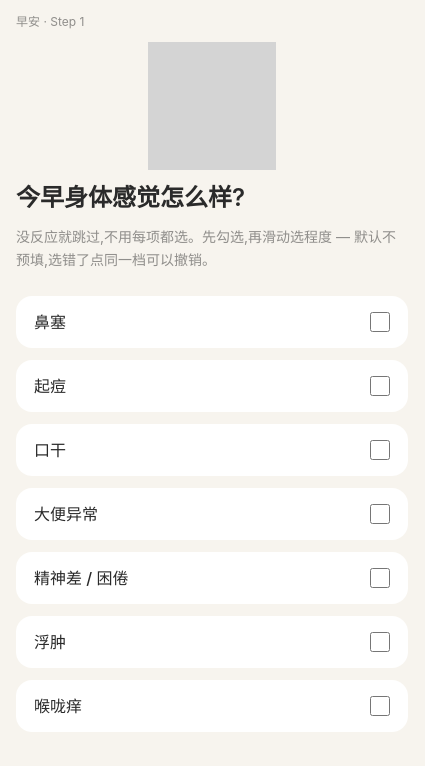
Test: U7 Step 1 盲打卡 › 点档位 → severity 写入 store + UI 上"请选一个程度"消失
What coordinates should you click on to do the following:
click the checkbox with test id "engage-nasal_congestion"
I would click on:
 (380, 322)
Its box is [370,312,390,332].
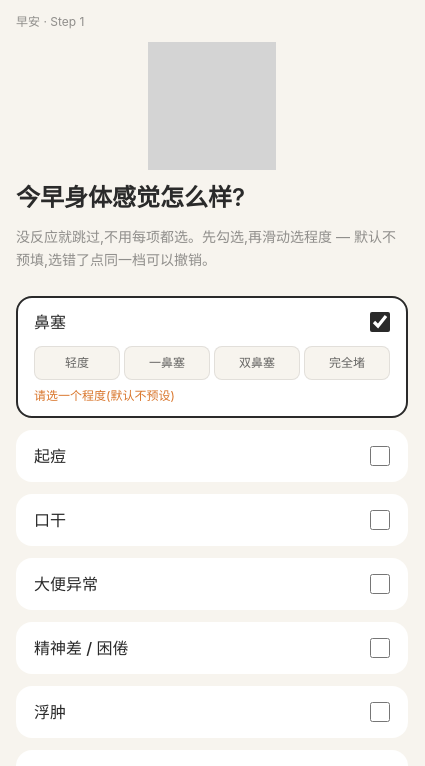
What coordinates should you click on to do the following:
click the radio button with test id "level-nasal_congestion-3"
I would click on:
 (257, 362)
Its box is [214,346,300,380].
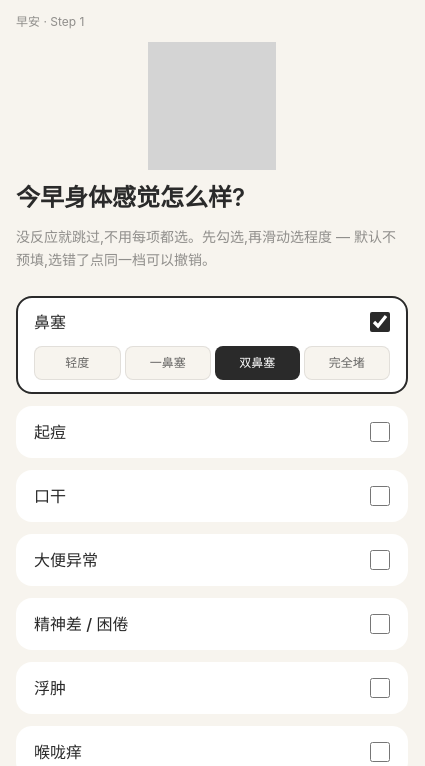
Check: the text "请选一个程度" is gone
